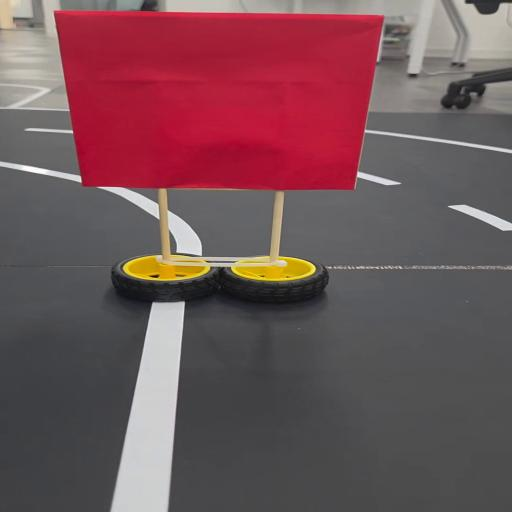Sign_A: (54, 9, 394, 315)
